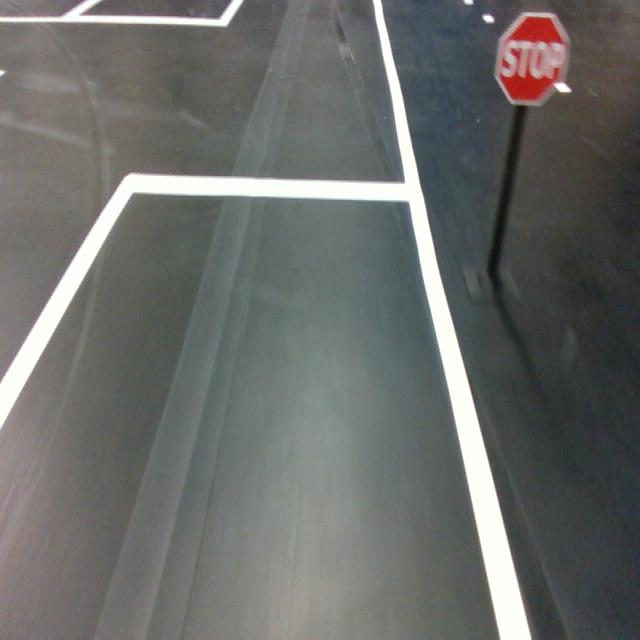stop-sign: (494, 12, 570, 107)
